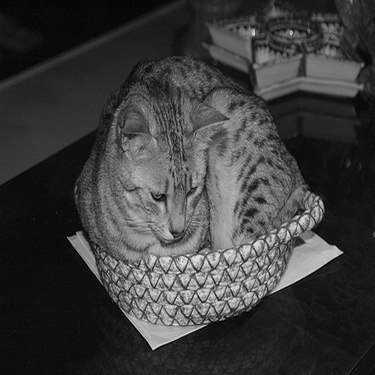cat: (68, 46, 315, 260)
